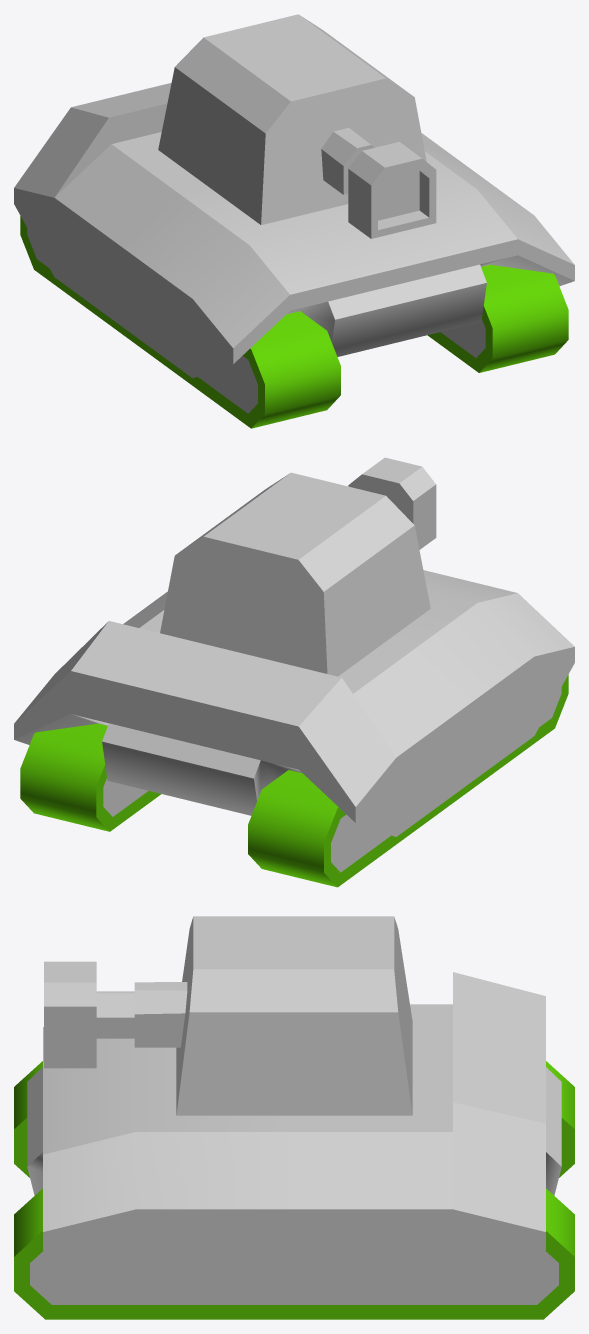
Rendered from LowPolyTankMesh.fbx.
3 renders of one model, top to bottom at view 1: azimuth 30°, elevation 25°; view 2: azimuth 150°, elevation 25°; view 3: azimuth 270°, elevation 25°, orthographic. The views are drawn at different scales.
Visible parts, largest first — view 1: Tank, TankTracks, TankTurretNozzle; view 2: Tank, TankTracks, TankTurretNozzle; view 3: Tank, TankTracks, TankTurretNozzle.
Boxes of the visible parts, box(x1,y1,x2,y2) form: Tank: box(14, 14, 574, 378); TankTracks: box(20, 216, 568, 428); TankTurretNozzle: box(348, 142, 436, 238); Tank: box(14, 472, 574, 836); TankTracks: box(20, 675, 568, 887); TankTurretNozzle: box(348, 457, 436, 549); Tank: box(27, 916, 561, 1300); TankTracks: box(14, 1061, 574, 1319); TankTurretNozzle: box(44, 961, 134, 1068).
Bounding box in the file's own units: 1.8 × 1.28 × 2.23.
